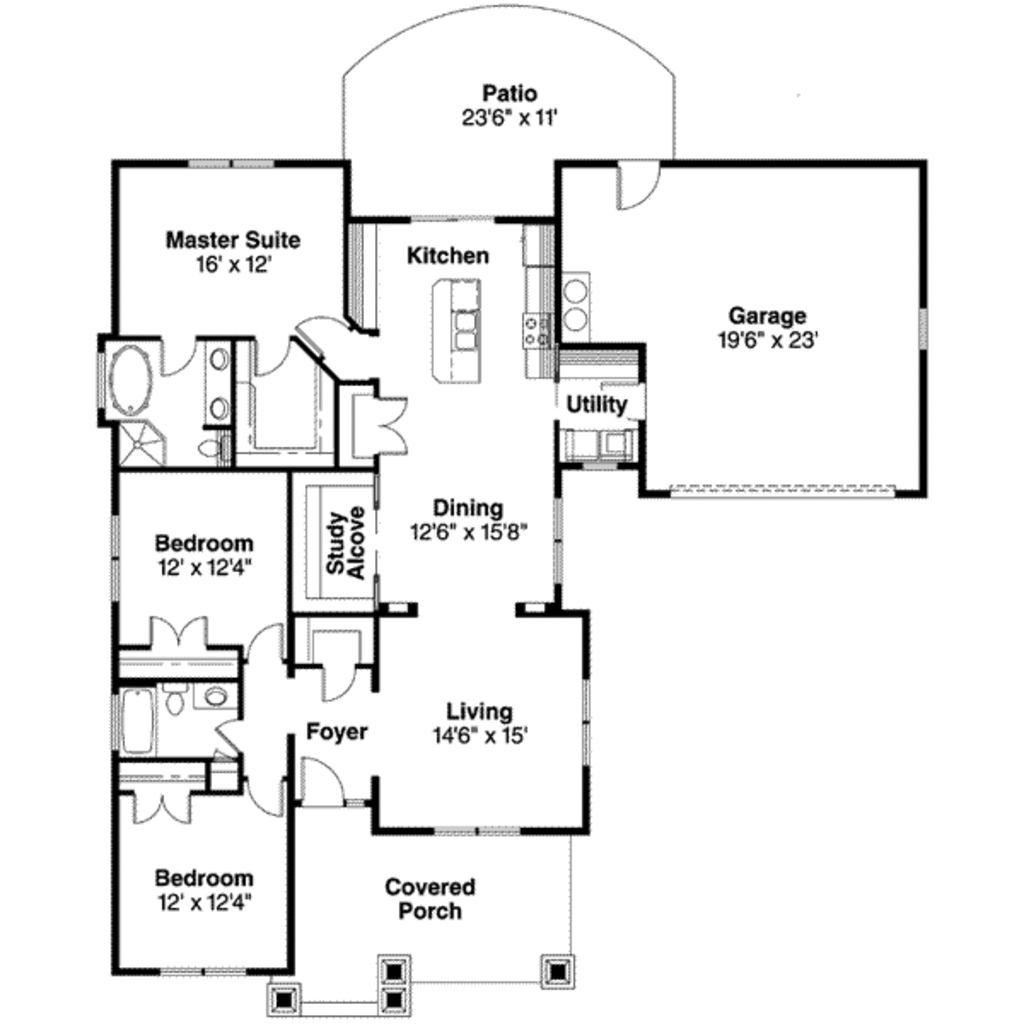door: (344, 386, 423, 453), (114, 777, 196, 834), (604, 155, 670, 219), (295, 748, 356, 814), (137, 605, 215, 656), (288, 305, 355, 360), (239, 619, 299, 677), (238, 770, 295, 822), (250, 330, 294, 383), (151, 335, 198, 379), (316, 660, 363, 700)
kitchen_bar: (417, 267, 492, 407)
large_sink: (159, 681, 195, 723), (191, 432, 234, 465)
small_sink: (206, 342, 238, 425), (194, 686, 243, 712)
tub: (112, 680, 163, 762), (106, 341, 154, 418)
twin_sink: (445, 304, 490, 357)
window: (183, 150, 296, 178), (428, 816, 528, 844), (102, 513, 132, 604), (574, 675, 603, 767), (163, 954, 246, 980), (907, 300, 936, 356)
